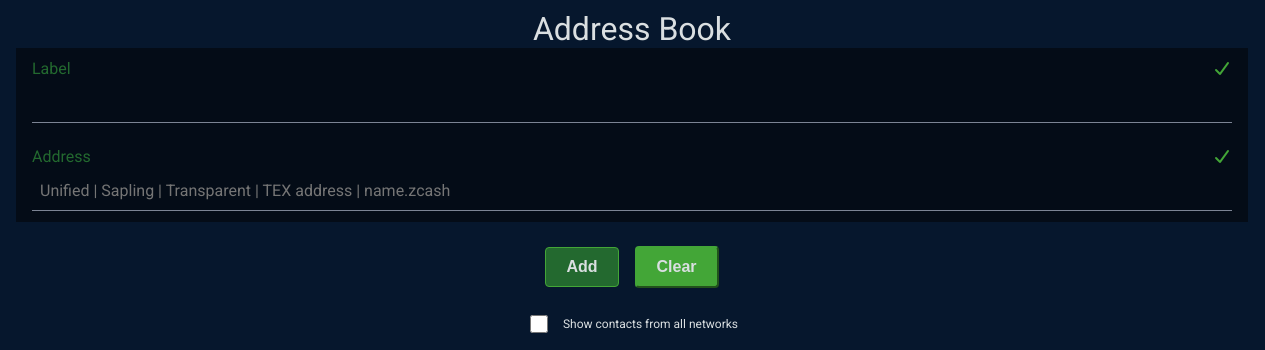
Test: AddressBook › recognizes a transparent address and shows 'Transparent' tag
The width and height of the screenshot is (1265, 350).
In the field labelled "Unified | Sapling | Transparent | TEX address | name.zcash": (632, 190) 32,170 -> 1232,211, type "t1valid"
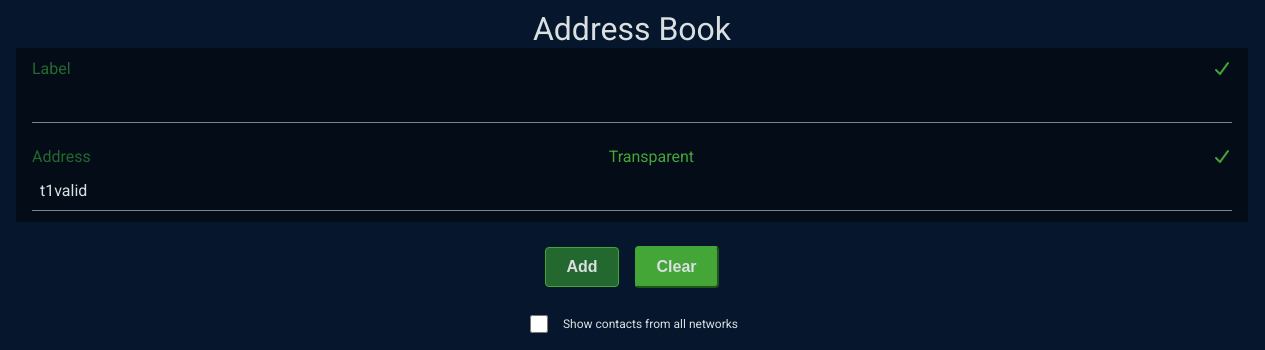
Check: the text "Transparent" is shown, box 609,147 -> 694,166
